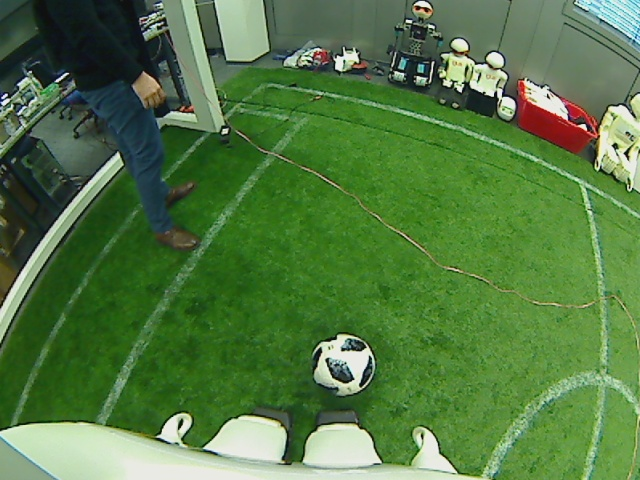ball: (309, 332, 376, 397)
